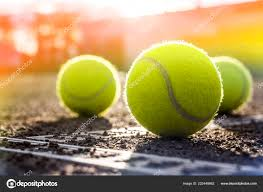tennis_ball: (125, 40, 223, 140), (57, 55, 120, 116), (199, 56, 253, 117)
